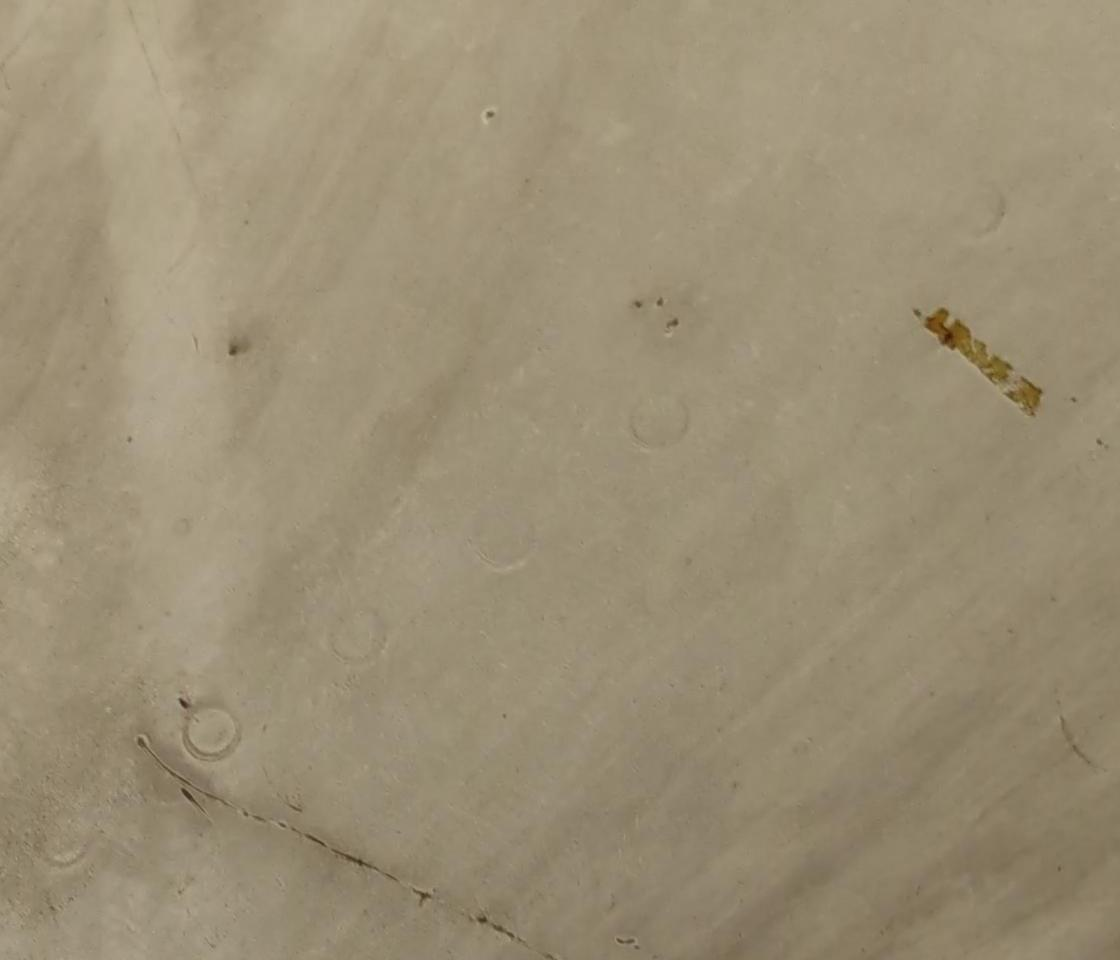rust: (919, 301, 1016, 385)
